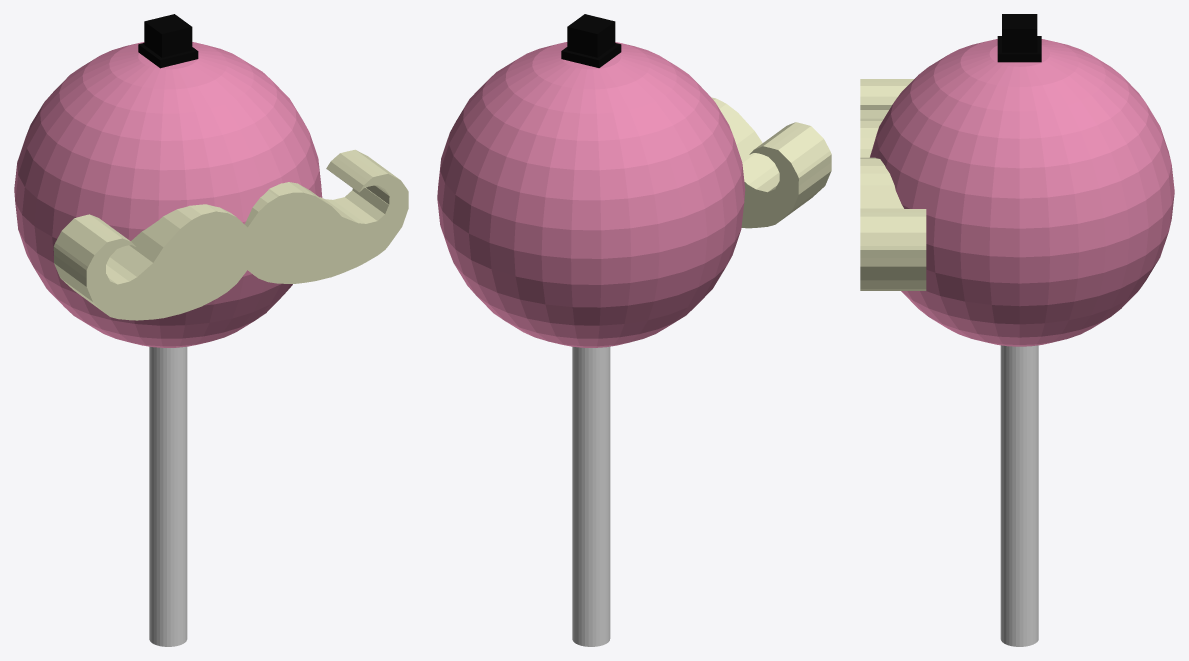
File: Lolipop.fbx
The picture shows the model from 3 angles, left to right: view 1: azimuth 30°, elevation 25°; view 2: azimuth 150°, elevation 25°; view 3: azimuth 270°, elevation 25°; orthographic projection.
Visible parts, largest first — view 1: Sphere, Moustache, Stick, Tophat; view 2: Sphere, Stick, Moustache, Tophat; view 3: Sphere, Stick, Moustache, Tophat.
Part boxes in pixels (x1,y1,x2,y2): Sphere: (14, 42, 322, 347); Moustache: (53, 149, 408, 320); Stick: (149, 346, 187, 646); Tophat: (138, 14, 198, 68); Sphere: (437, 42, 745, 347); Stick: (572, 346, 610, 646); Moustache: (711, 97, 831, 228); Tophat: (561, 14, 621, 67); Sphere: (870, 39, 1174, 346); Stick: (1000, 345, 1038, 646); Moustache: (860, 79, 926, 290); Tophat: (997, 14, 1041, 62).
Bounding box in the file's own units: 490 × 893 × 412.
